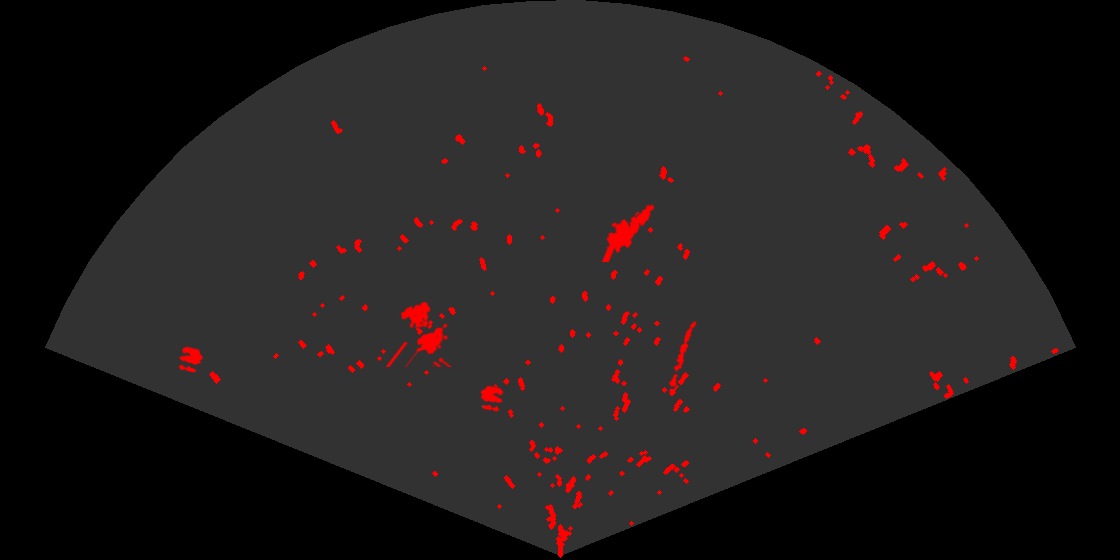ball: (177, 345, 205, 374), (479, 384, 505, 413)
cage: (384, 300, 454, 367)
chain: (667, 319, 698, 389)
frogman: (600, 203, 656, 262)
